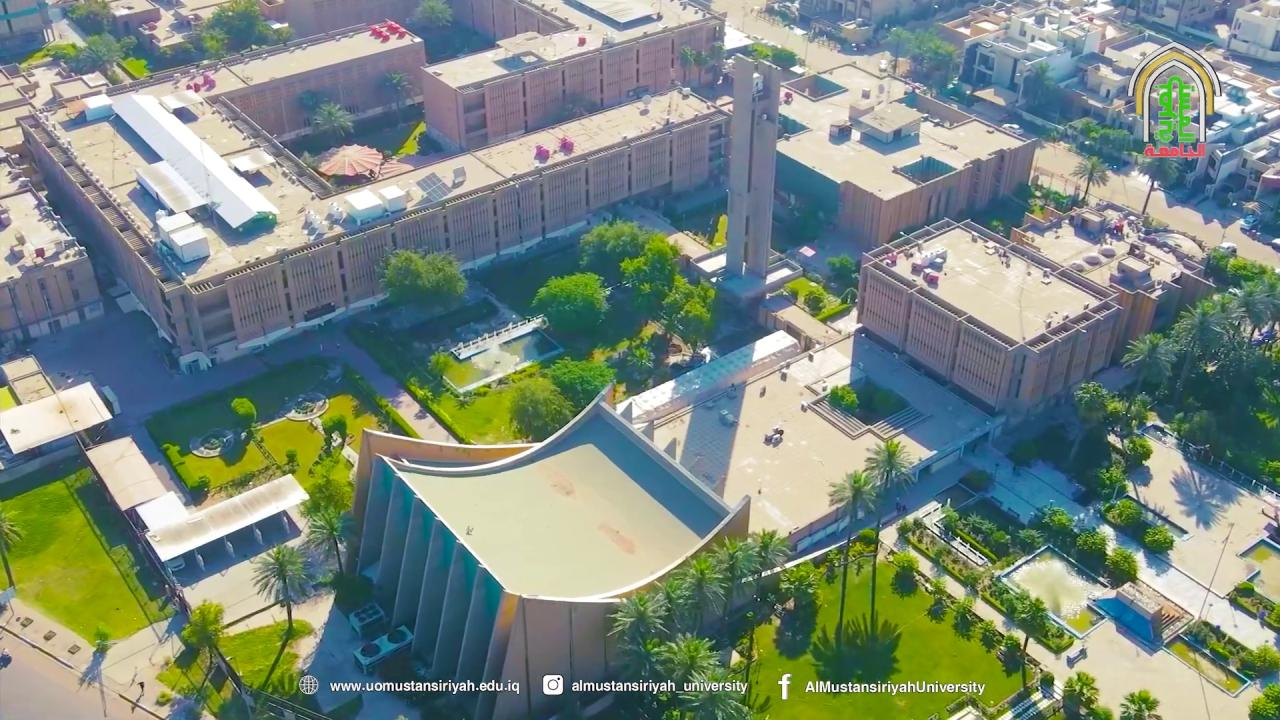car: (1239, 216, 1260, 234), (1001, 123, 1022, 137)
fountain: (996, 544, 1111, 638), (448, 312, 550, 362)
tree: (605, 526, 821, 718), (618, 236, 715, 352), (861, 437, 917, 622), (826, 468, 880, 648), (807, 609, 902, 691), (1167, 296, 1226, 404), (248, 543, 314, 639), (376, 245, 467, 311), (576, 216, 661, 286), (298, 474, 356, 574), (530, 270, 612, 335), (773, 559, 822, 659), (179, 599, 227, 697), (1002, 588, 1049, 688), (505, 376, 577, 441), (44, 30, 138, 79), (880, 24, 956, 83), (543, 355, 616, 411), (1225, 271, 1279, 342), (1120, 330, 1175, 394), (76, 625, 114, 716), (862, 436, 916, 493), (417, 246, 467, 307), (1134, 153, 1182, 216), (826, 468, 879, 524), (205, 0, 262, 51), (305, 505, 347, 574), (317, 568, 374, 618), (0, 503, 24, 590), (1106, 391, 1152, 435), (1071, 153, 1109, 205), (312, 98, 354, 143), (1061, 670, 1099, 718), (886, 550, 921, 600), (783, 276, 828, 314), (1072, 380, 1111, 423), (1022, 59, 1056, 107), (383, 69, 409, 125), (884, 25, 913, 75), (1103, 546, 1139, 585), (1118, 689, 1161, 719), (1006, 437, 1039, 475), (1096, 462, 1127, 502), (1248, 681, 1280, 719), (320, 413, 348, 454), (412, 0, 452, 28), (684, 46, 712, 86), (1242, 644, 1280, 673), (230, 397, 257, 436), (1121, 434, 1153, 465), (1108, 498, 1141, 528), (826, 383, 858, 413), (1142, 524, 1175, 553), (896, 515, 926, 546), (1074, 526, 1106, 555), (425, 349, 452, 383), (1040, 500, 1070, 530), (825, 254, 857, 279), (1015, 527, 1044, 554), (963, 467, 992, 493), (710, 40, 726, 84), (680, 44, 696, 85), (709, 212, 728, 246), (92, 625, 110, 654), (283, 447, 299, 476), (750, 42, 772, 60), (989, 218, 1004, 235)
